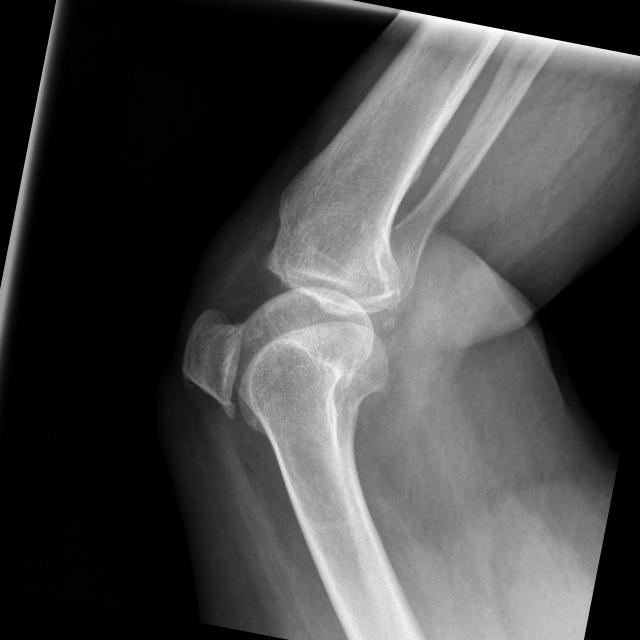Knee: (171, 214, 417, 451)
